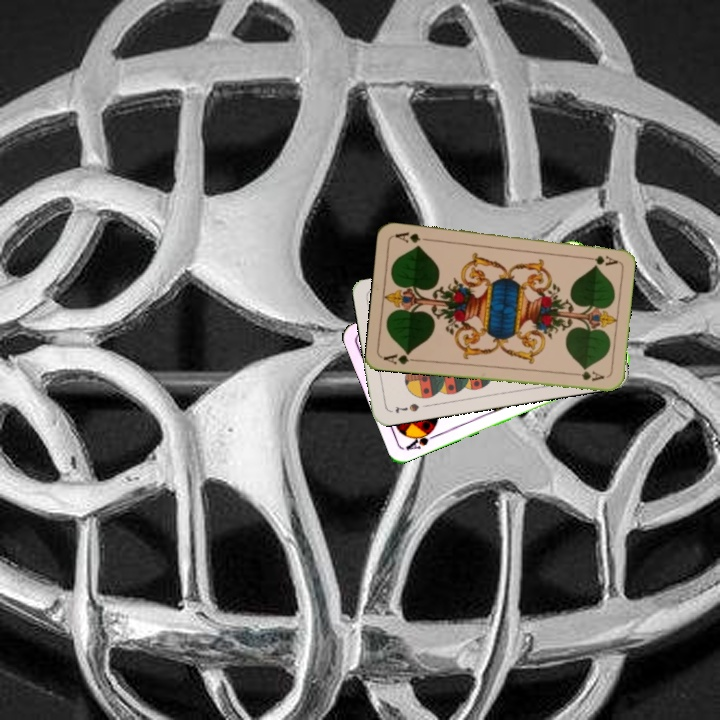GA: (380, 348, 421, 367), (579, 252, 619, 266)
S7: (391, 399, 422, 416)
SA: (402, 425, 441, 453)
